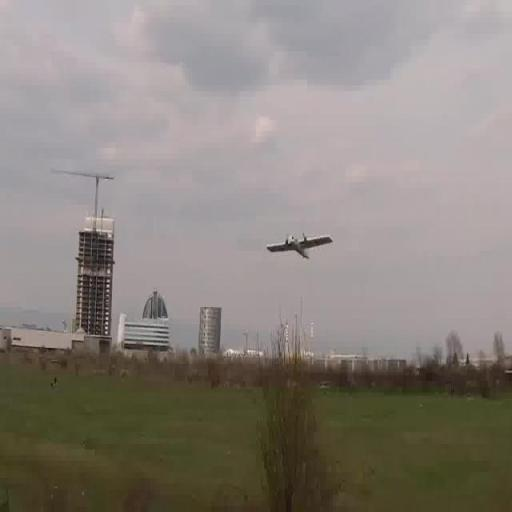uav: (266, 218, 334, 273)
